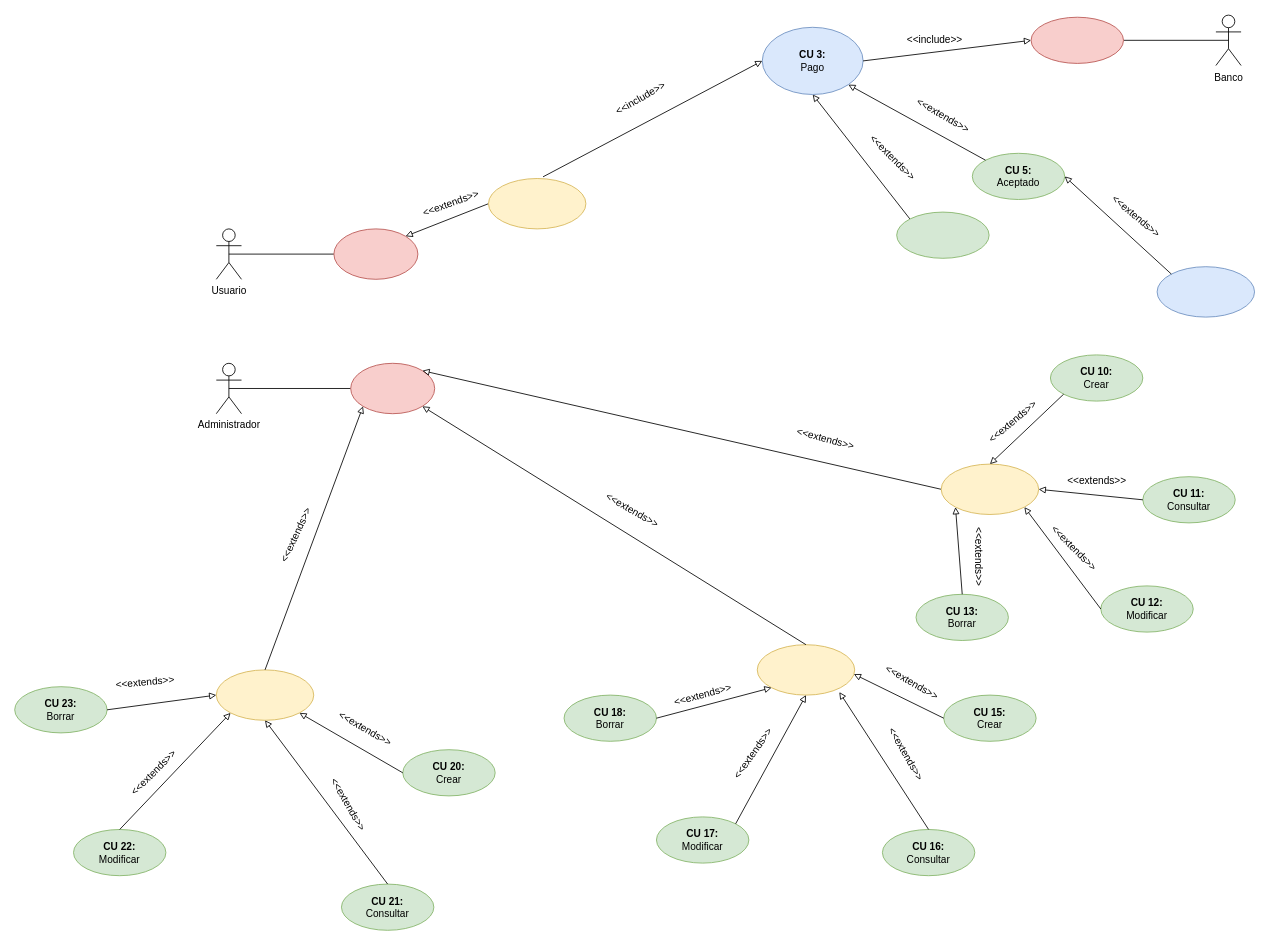
The diagram is 1269 pixels wide and 945 high, and some of its shapes have lost their labels. The shapes that lost their labels are listed below. From the top down, each one's centre as x and y in pixels, then its label:
At (1077,39): "CU 4: Comprobar".
At (537,203): "CU 2: Reserva".
At (375,253): "CU 1: Autenticarse".
At (942,234): "CU 7: Denegado".
At (1205,291): "CU 6: Cancelar Reserva".
At (392,388): "CU 8: Autenticarse".
At (989,488): "CU 9: Gestionar Usuario".
At (805,669): "CU 14: Gestionar Reserva".
At (264,694): "CU 19: Gestionar Producto".
